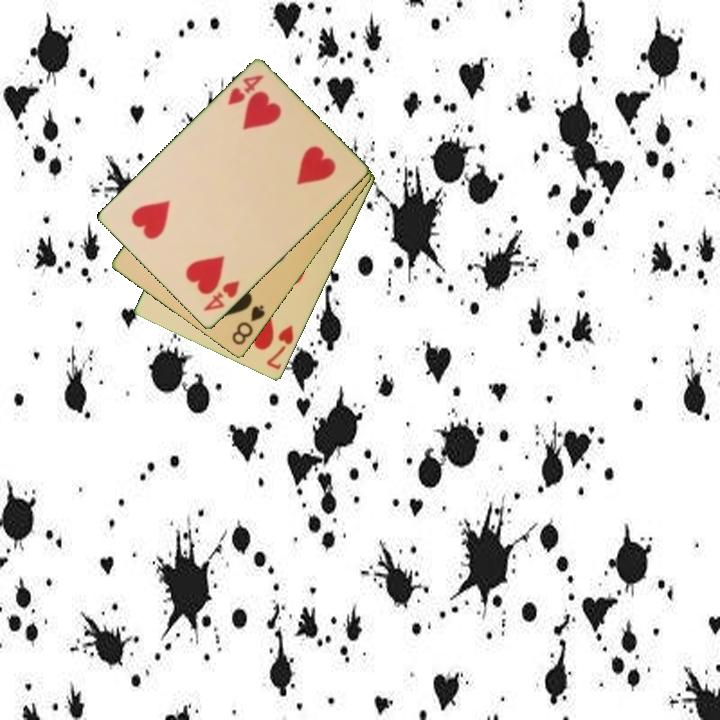4h: (200, 277, 243, 315), (224, 71, 267, 108)
7h: (263, 322, 297, 373)
8s: (228, 301, 268, 348)
